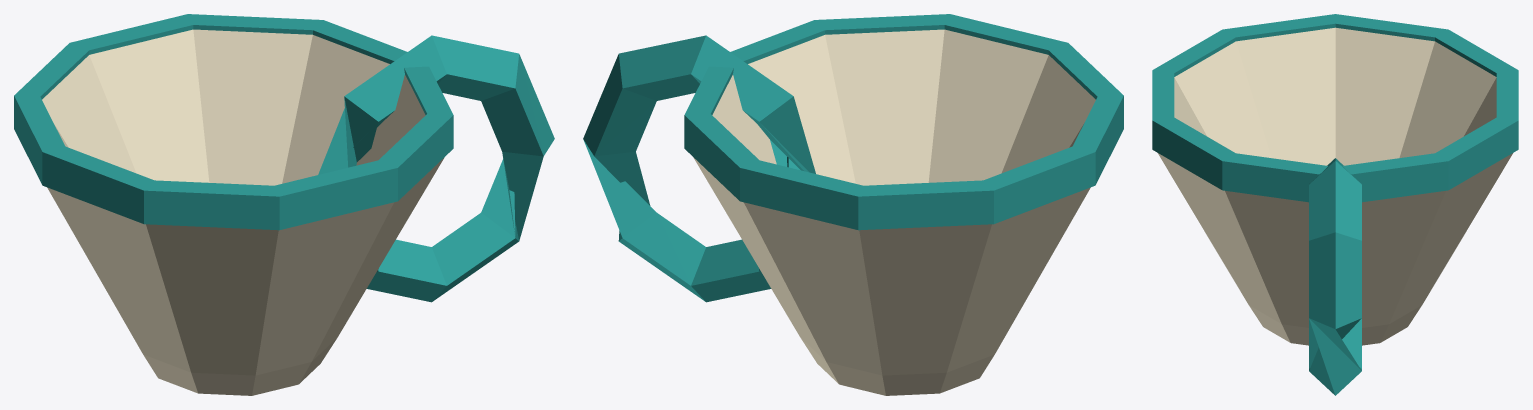
The model's file is cup.glb.
The picture shows the model from 3 angles, left to right: view 1: azimuth 30°, elevation 25°; view 2: azimuth 150°, elevation 25°; view 3: azimuth 270°, elevation 25°; orthographic projection. The views are drawn at different scales.
Visible parts, largest first — view 1: cup; view 2: cup; view 3: cup.
Part boxes in pixels (x1,y1,x2,y2): cup: (14, 14, 554, 395); cup: (583, 14, 1123, 395); cup: (1152, 14, 1518, 395).
Size of the model in its own units: 0.1165 by 0.06 by 0.0827.
